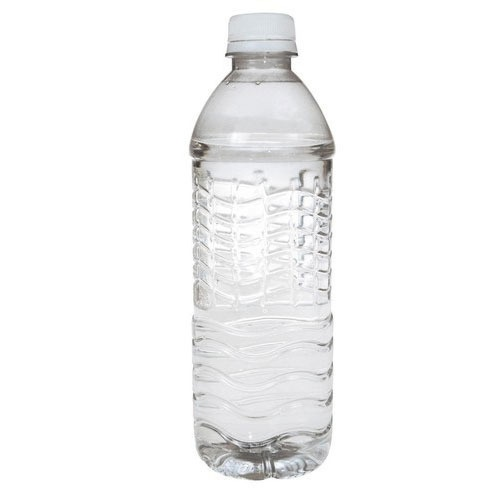emptybottle: (191, 10, 334, 480)
